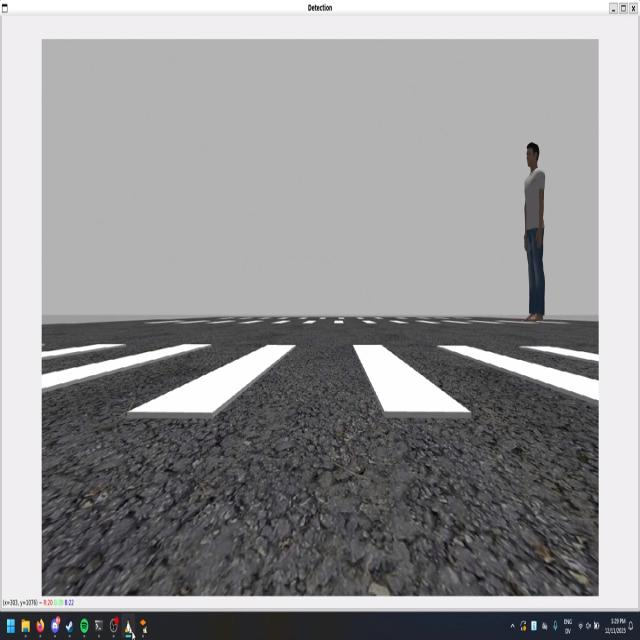crosswalk: (42, 342, 598, 421)
ped: (523, 134, 547, 327)
